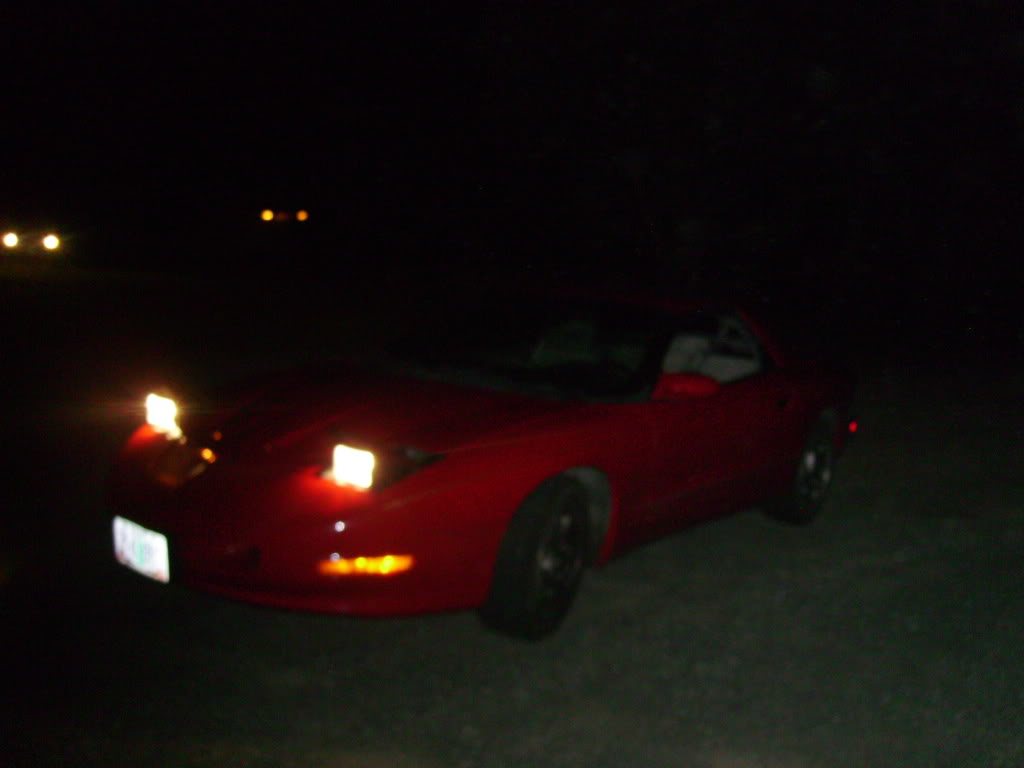car: (101, 268, 876, 648)
